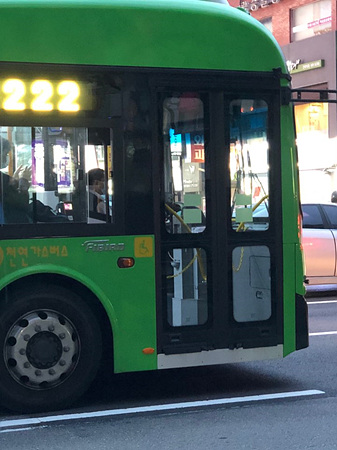entrance: (152, 69, 290, 365)
